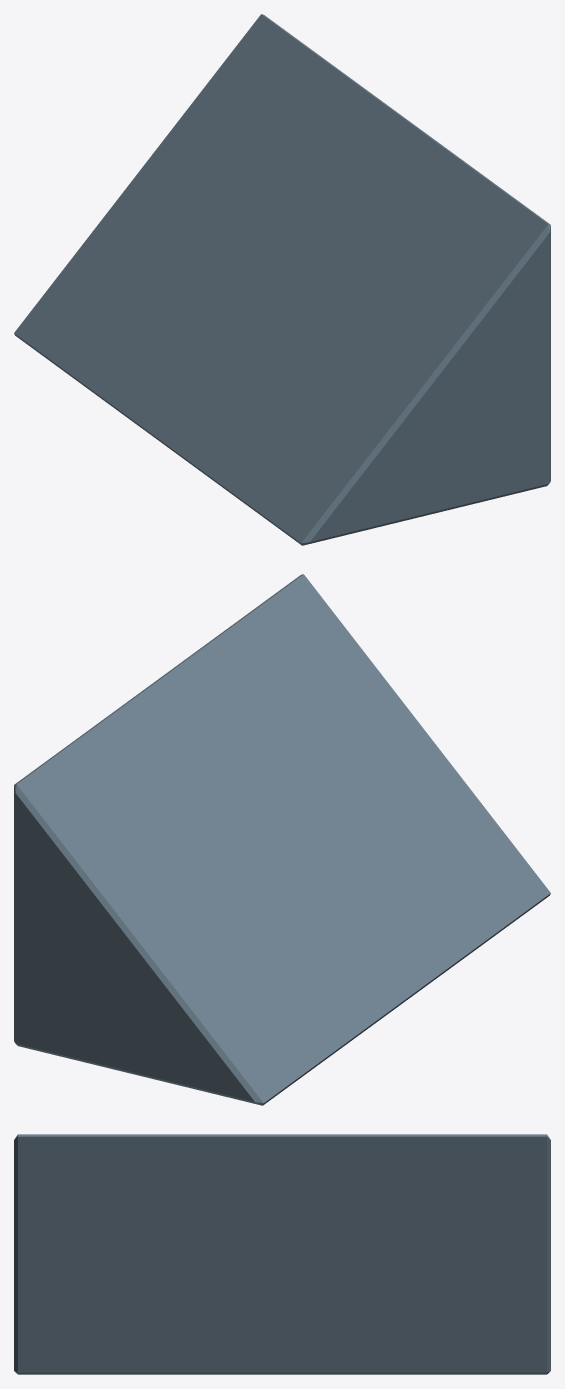
The model's file is P05_Wedge.fbx.
3 views of the same model, one above another, from view 1: azimuth 30°, elevation 25°; view 2: azimuth 150°, elevation 25°; view 3: azimuth 270°, elevation 25° (orthographic). The views are drawn at different scales.
Visible parts, largest first — view 1: P05_Wedge; view 2: P05_Wedge; view 3: P05_Wedge.
Part boxes in pixels (x1,y1,x2,y2): P05_Wedge: (14, 14, 550, 545); P05_Wedge: (14, 574, 550, 1105); P05_Wedge: (14, 1134, 550, 1374).
Bounding box in the file's own units: 0.9894 × 0.9894 × 2.
1 material, 1 textured.
